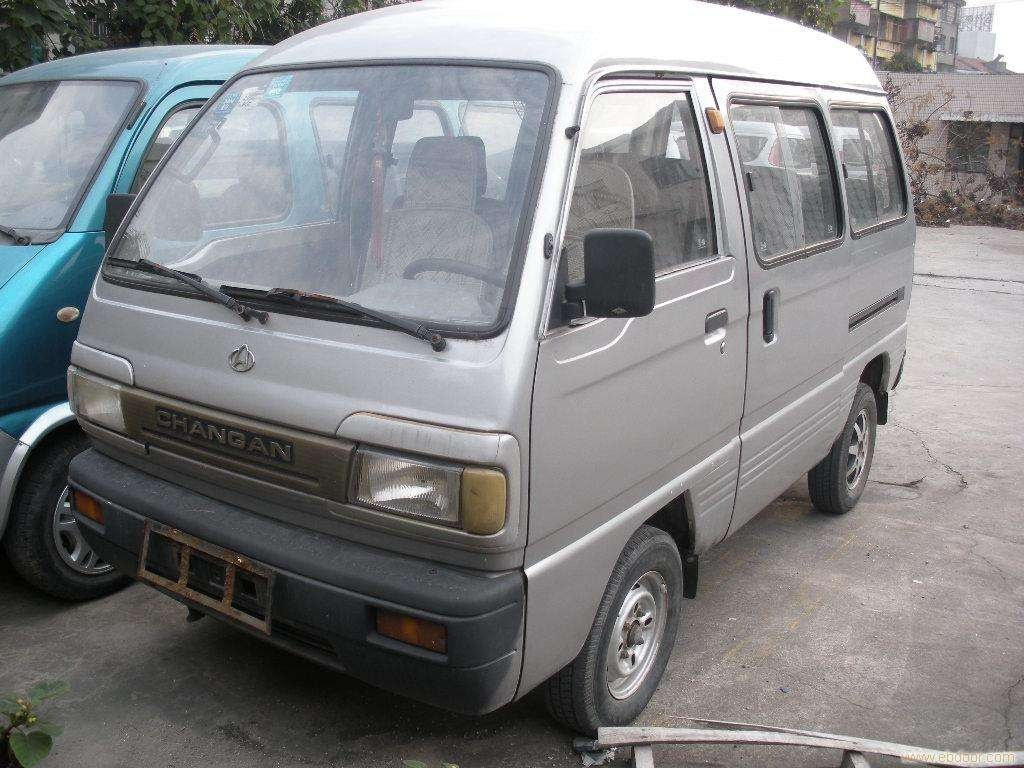minibus: (76, 24, 931, 701)
